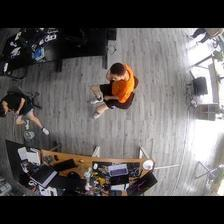normal: (88, 62, 137, 120), (1, 88, 52, 139)
